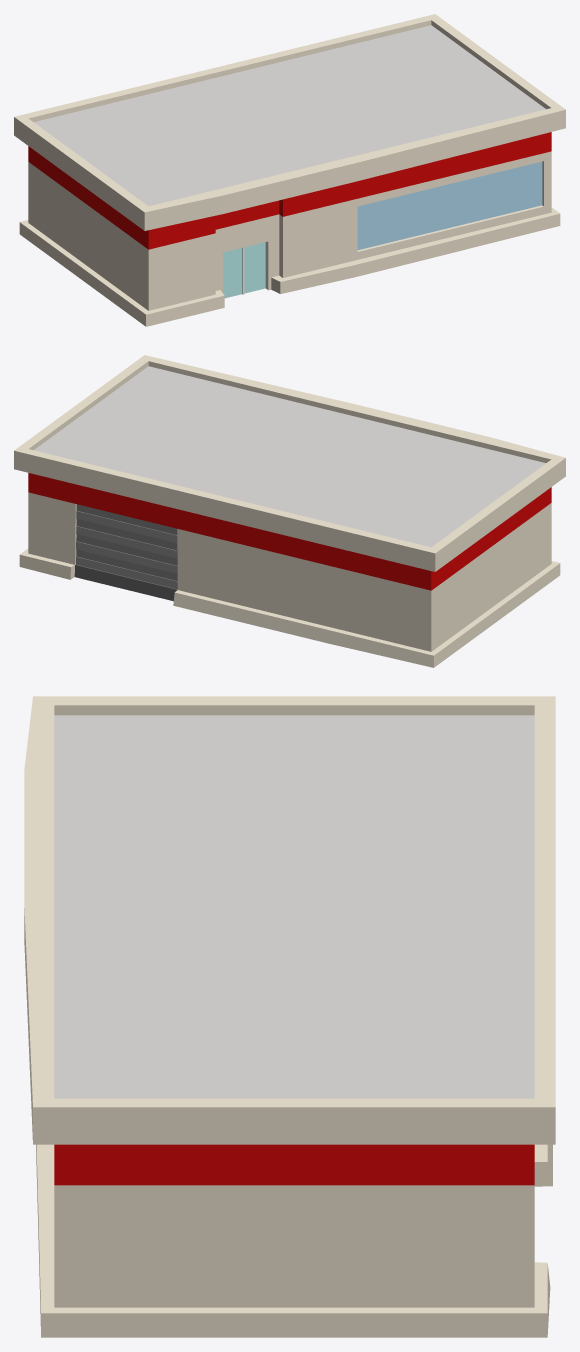
The model's file is supermarket.fbx.
3 views of the same model, one above another, from view 1: azimuth 30°, elevation 25°; view 2: azimuth 150°, elevation 25°; view 3: azimuth 270°, elevation 25° (orthographic). The views are drawn at different scales.
Parts seen in each view (by area): view 1: Supermarket; view 2: Supermarket; view 3: Supermarket.
Part boxes in pixels (<box>): Supermarket: <box>14,14,565,326</box>; Supermarket: <box>14,355,565,667</box>; Supermarket: <box>24,696,555,1337</box>.
Bounding box in the file's own units: 3241 × 859 × 1771.
